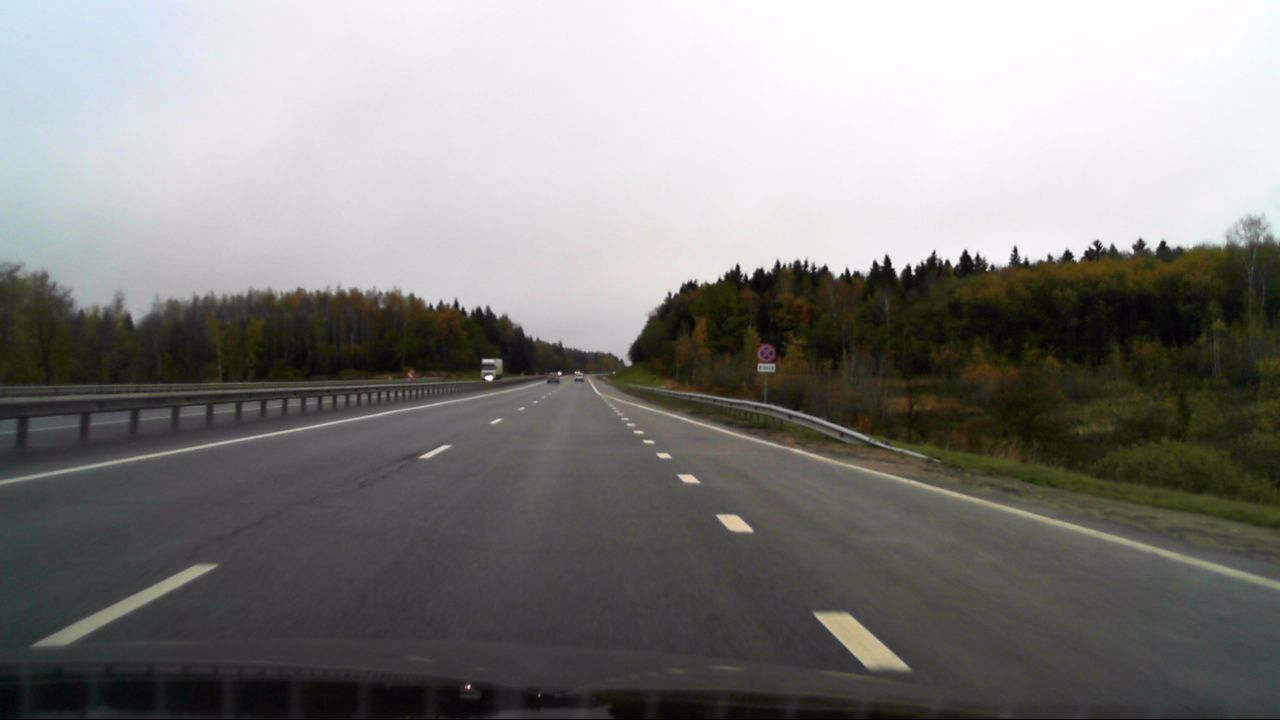No Parking: (758, 345, 774, 361)
